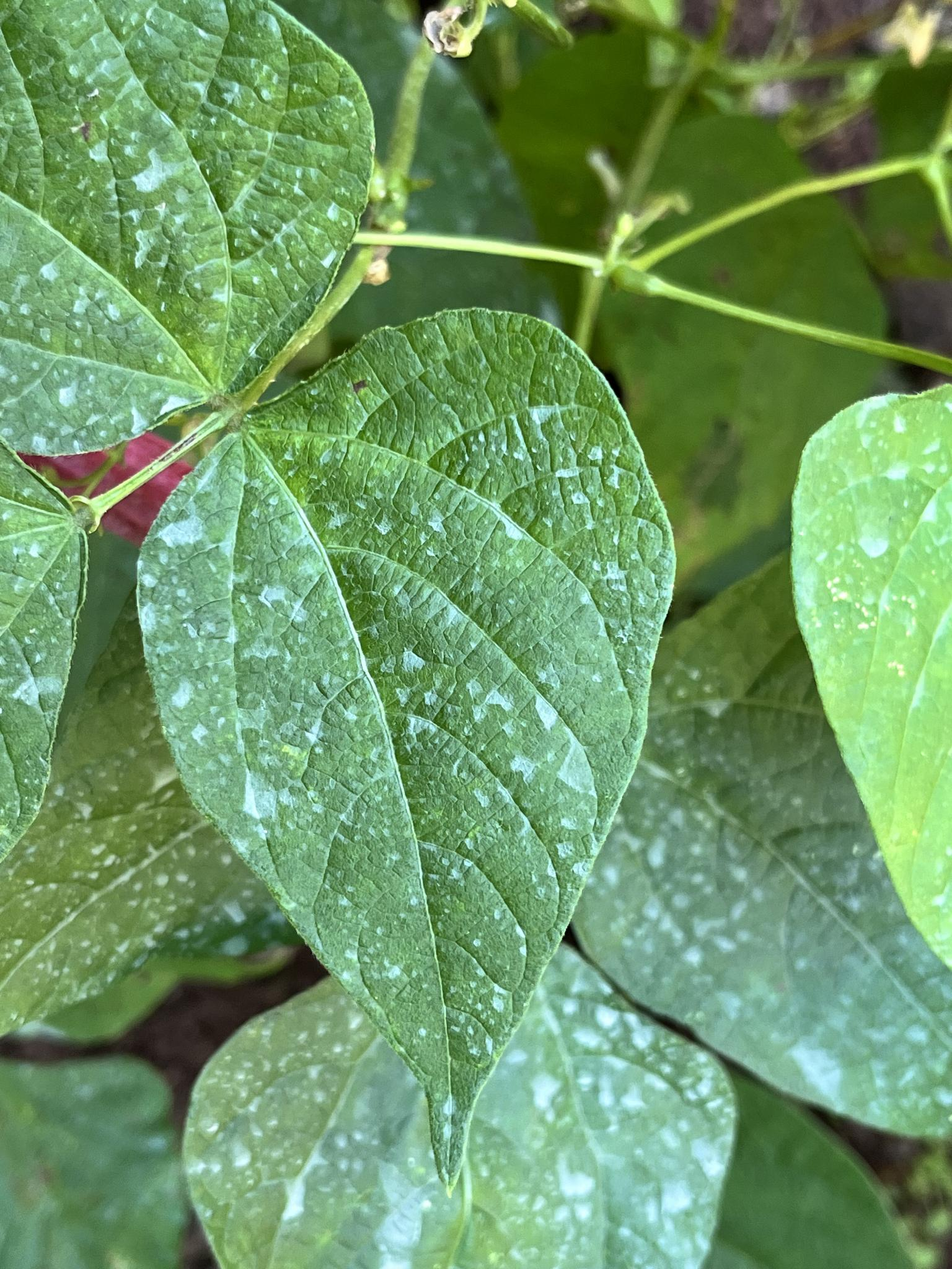embun tepung: (0, 0, 694, 1179), (175, 942, 744, 1269)
